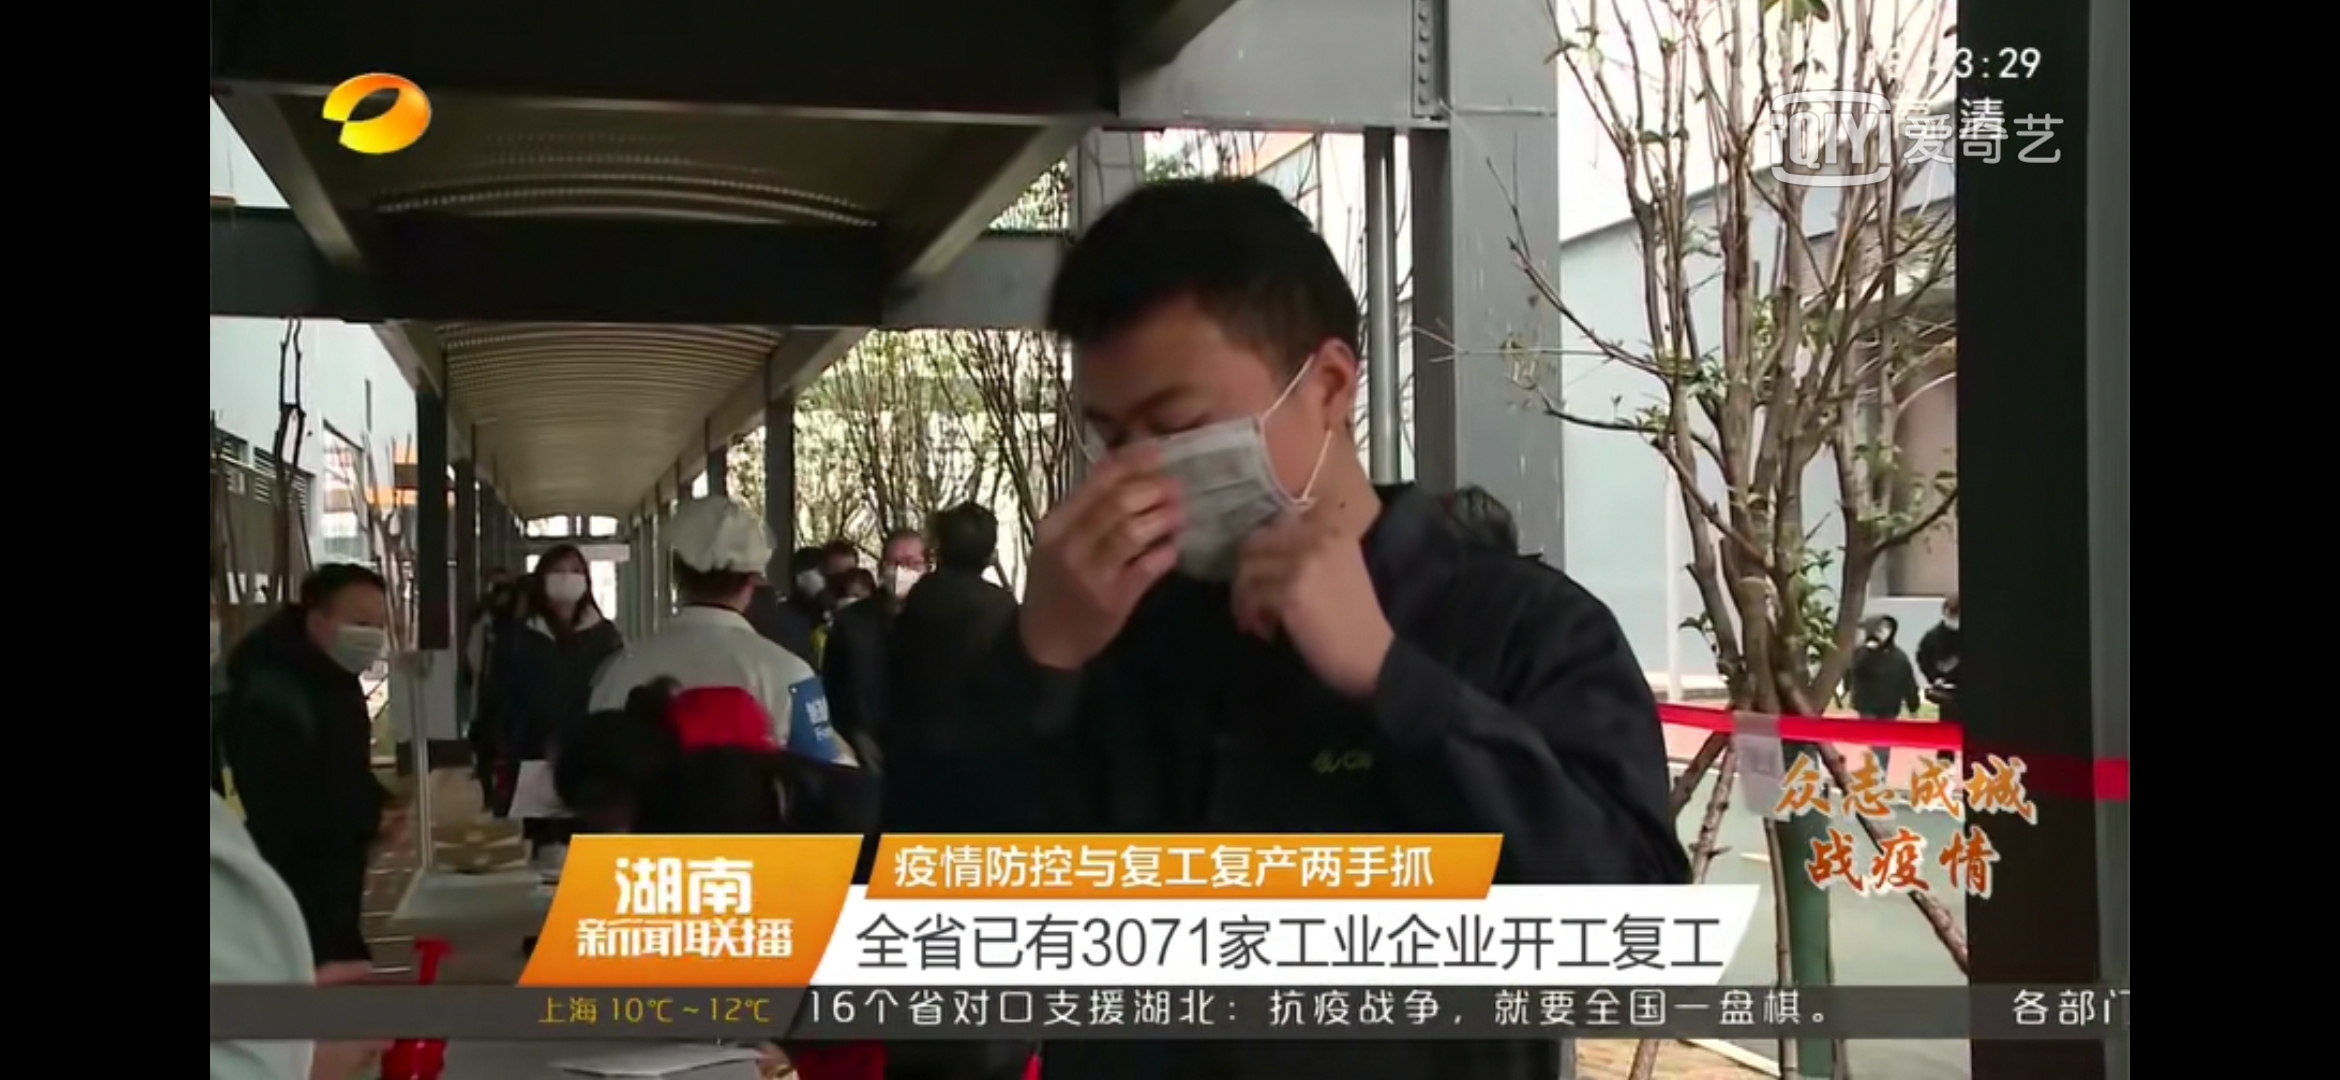correctlyWear: (1101, 337, 1389, 562), (300, 589, 395, 685), (534, 555, 600, 618), (880, 540, 925, 598), (792, 553, 827, 597), (837, 592, 872, 618)
